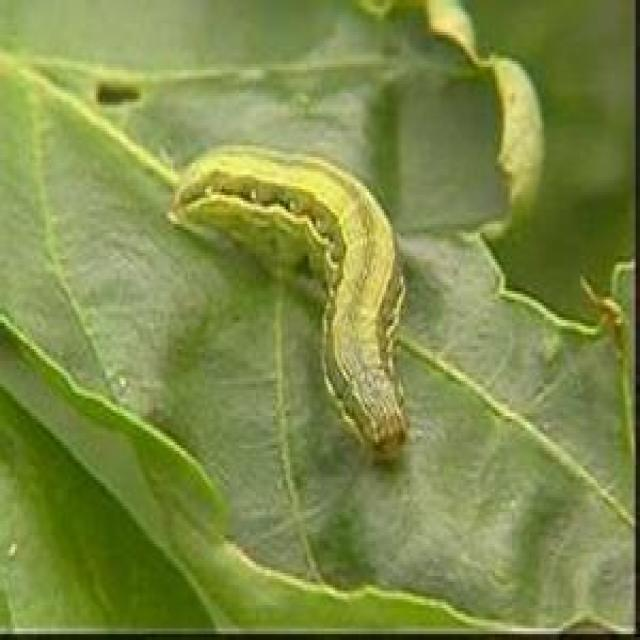BeetArmyWorm-Larva-: (159, 137, 416, 466)
